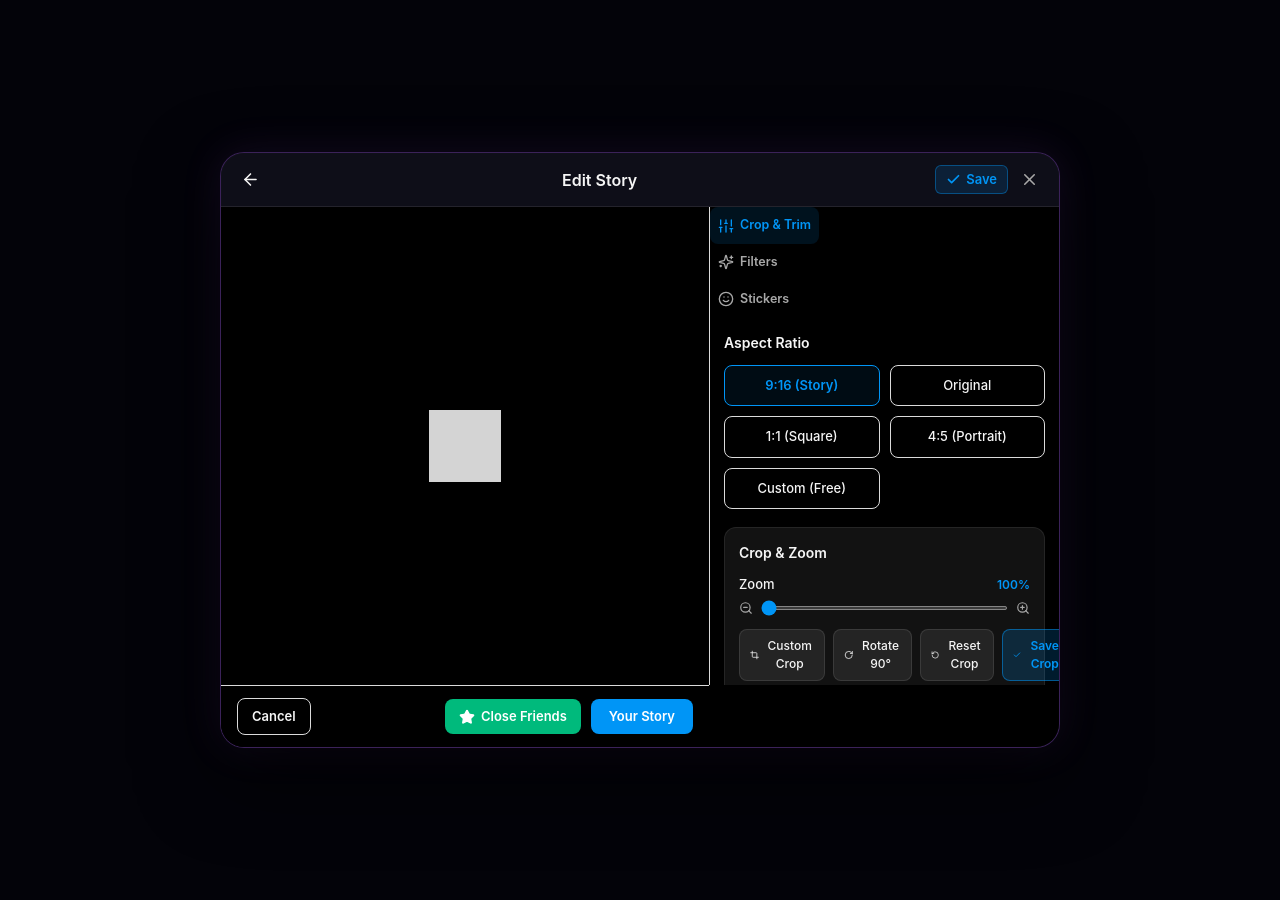
Test: CreateStoryModal Crop, Trim, Stickers & Right-Up Corner Save Features › 3. activates custom crop frame with corner & edge drag handles when Custom Crop is clicked
Earlier steps of the test are not shown.
Later steps or results of the test are not shown.
Expected: the text "Custom Crop" is shown, x1=765 y1=636 x2=814 y2=672
Click the button "Custom Crop" at x=782, y=654, box x1=739 y1=628 x2=825 y2=680
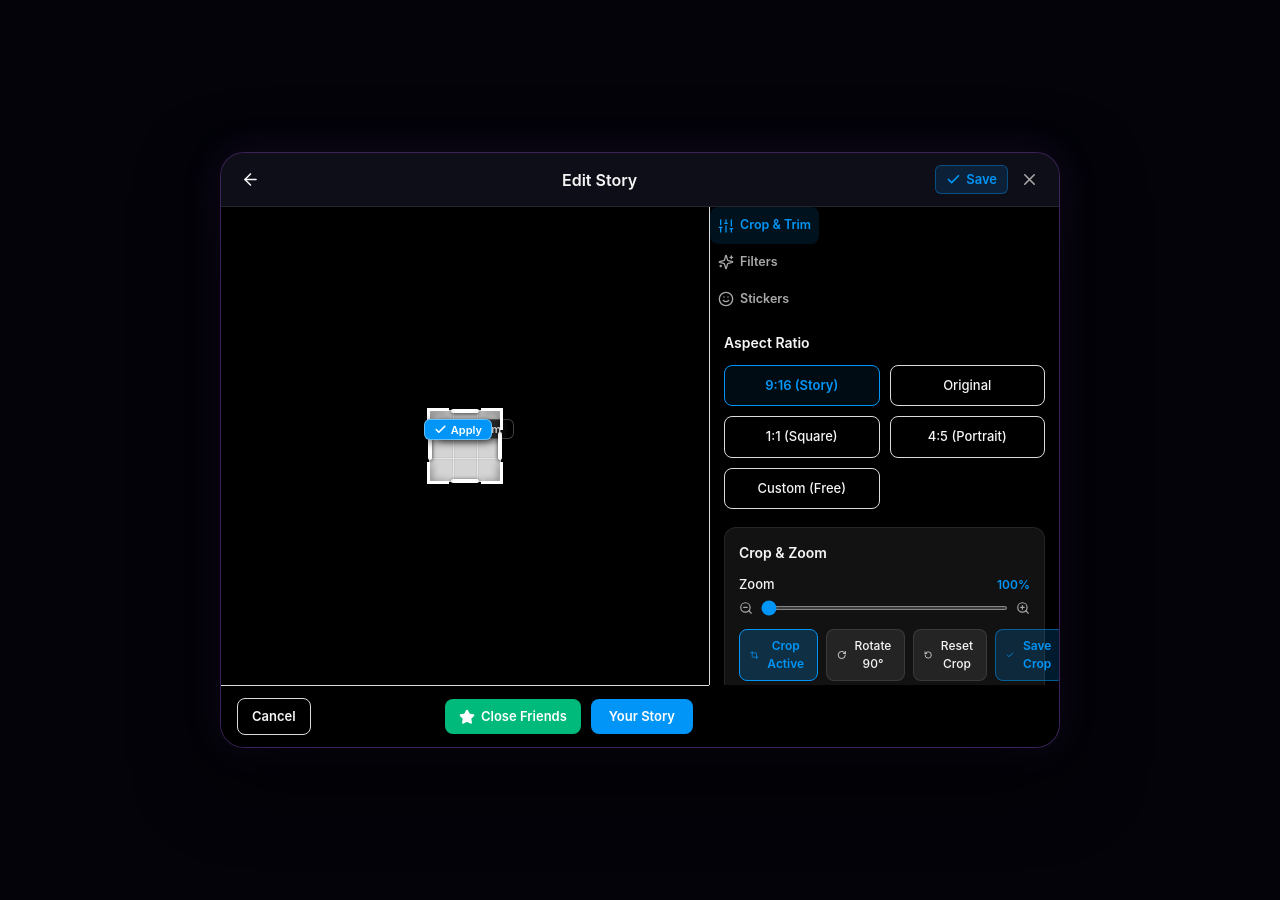
Now the text "Crop Active" is shown, box x1=765 y1=636 x2=807 y2=672
Now the number of elements with class "ig-crop-handle" is 8
Now the button named "Apply & Save Custom Crop" is shown, box x1=424 y1=419 x2=492 y2=440
